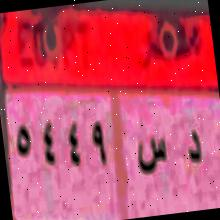4: (61, 115, 87, 178), (34, 120, 64, 172)
5: (10, 124, 36, 172)
9: (87, 120, 113, 173)
daal: (178, 112, 208, 174)
seen: (130, 132, 172, 180)
